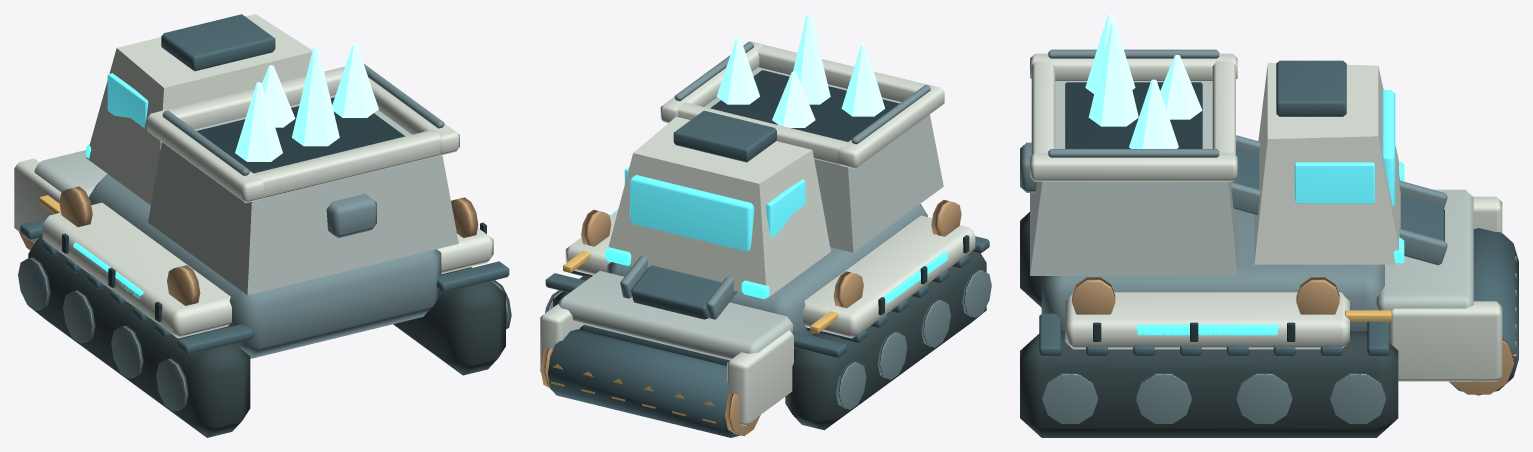
Rendered from harvester.glb.
The picture shows the model from 3 angles, left to right: view 1: azimuth 30°, elevation 25°; view 2: azimuth 150°, elevation 25°; view 3: azimuth 270°, elevation 25°; orthographic projection. The views are drawn at different scales.
Parts seen in each view (by area): view 1: Track shoulder guard, Tapered cargo hopper, Track drive hub, Industrial track, Loaded crystal shard, Industrial tread cleat, Guard joint, Cutter end hub, Panoramic cab windscreen, Running light; view 2: Track shoulder guard, Industrial tread cleat, Tapered cargo hopper, Track drive hub, Industrial track, Panoramic cab windscreen, Loaded crystal shard, Guard joint, Cutter end hub, Running light, Drum cutting tooth; view 3: Track shoulder guard, Tapered cargo hopper, Industrial track, Track drive hub, Industrial tread cleat, Loaded crystal shard, Guard joint, Panoramic cab windscreen, Cutter end hub, Running light, Drum cutting tooth.
Part boxes in pixels (x1,y1,x2,y2): Track shoulder guard: (14,14,493,338); Tapered cargo hopper: (34,95,458,295); Track drive hub: (18,64,511,411); Industrial track: (28,237,505,437); Loaded crystal shard: (235,44,378,161); Industrial tread cleat: (20,14,509,354); Guard joint: (62,97,486,321); Cutter end hub: (19,186,478,305); Panoramic cab windscreen: (107,73,148,127); Running light: (73,144,143,299); Track shoulder guard: (540,41,975,425); Industrial tread cleat: (545,110,989,437); Tapered cargo hopper: (558,67,943,360); Track drive hub: (545,41,991,409); Industrial track: (553,251,986,430); Panoramic cab windscreen: (624,166,805,251); Loaded crystal shard: (716,14,884,127); Guard joint: (580,70,969,365); Cutter end hub: (540,200,961,436); Running light: (605,209,947,303); Drum cutting tooth: (547,251,838,423); Track shoulder guard: (1030,53,1502,382); Tapered cargo hopper: (1030,81,1473,310); Industrial track: (1020,212,1398,437); Track drive hub: (1020,49,1447,423); Industrial tread cleat: (1039,60,1518,395); Loaded crystal shard: (1085,14,1202,148); Guard joint: (1065,82,1295,341); Panoramic cab windscreen: (1294,90,1395,206); Cutter end hub: (1072,277,1513,394); Running light: (1135,161,1404,335); Drum cutting tooth: (1345,256,1516,360).
Bounding box in the file's own units: 1.18 × 1.14 × 1.49.
